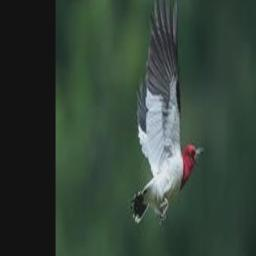Woodpecker: (129, 0, 204, 224)
